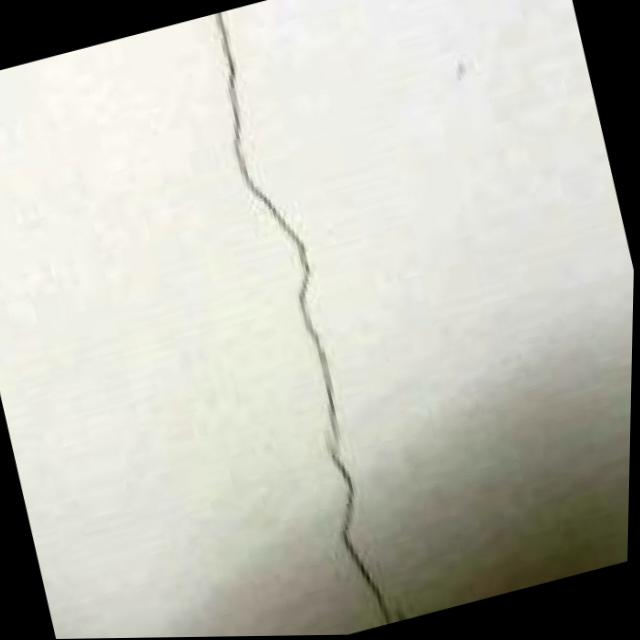Crack: (150, 0, 471, 638)
